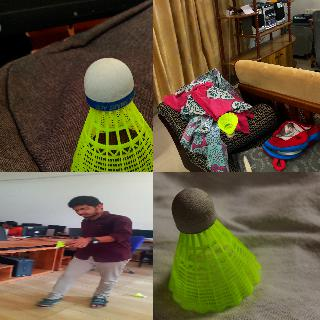shuttlecock: (168, 187, 260, 313), (70, 54, 152, 171), (217, 112, 237, 138), (54, 240, 67, 248)
